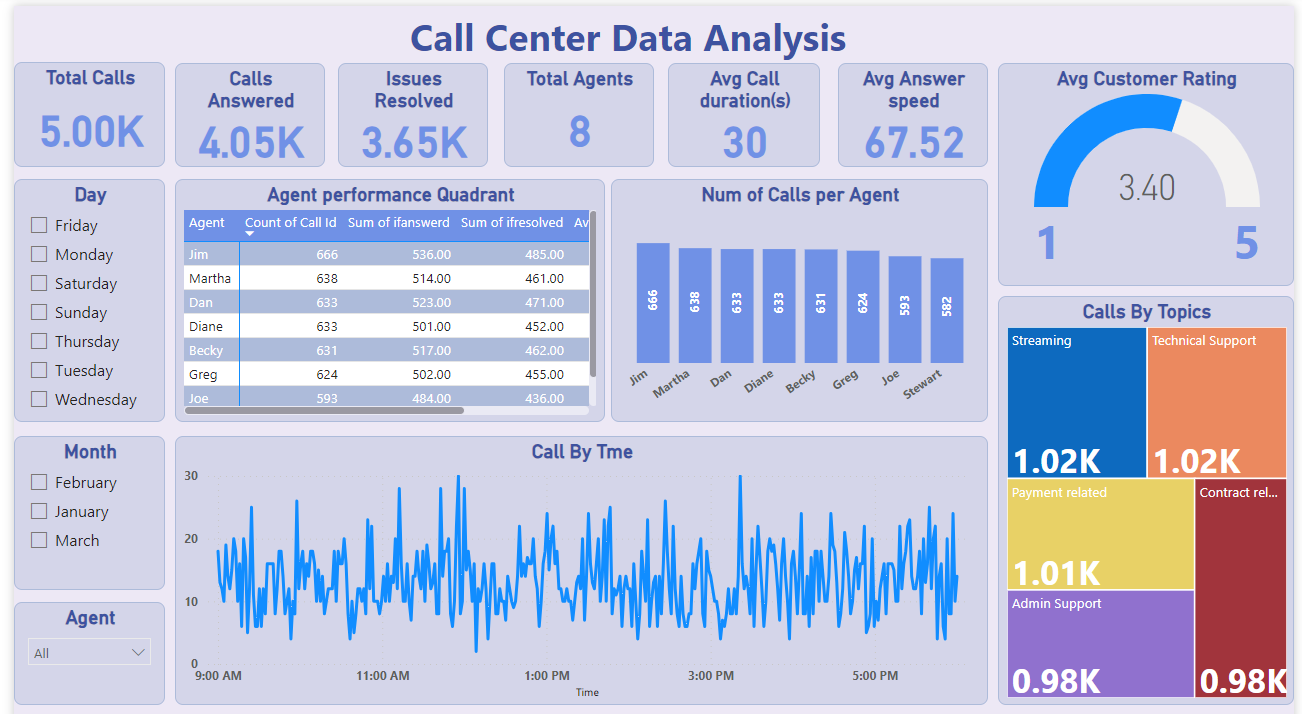

The page's visual inventory and layout, read from the dashboard file:
{"tool":"powerbi","page":{"name":"Page 1","canvas":[1280,720],"ordinal":0},"visuals":[{"type":"card","title":"Total Calls","fields":{"Values":["CountNonNull(Sheet1.Call Id)"]},"box":[0,55.7,151.4,105.7],"z":0},{"type":"card","title":"Avg Call duration(s)","fields":{"Values":["Avg(Sheet1.AvgTalkDuration)"]},"box":[654.3,57.1,151.4,104.3],"z":1000},{"type":"card","title":"Total Agents","fields":{"Values":["Sheet1.numofagents"]},"box":[490,57.1,150,104.3],"z":2000},{"type":"card","title":"Issues Resolved","fields":{"Values":["Sum(Sheet1.ifresolved)"]},"box":[324.3,57.1,150,104.3],"z":3000},{"type":"card","title":"Calls Answered","fields":{"Values":["Sum(Sheet1.ifanswerd)"]},"box":[161.4,57.1,150,104.3],"z":4000},{"type":"card","title":"Avg Answer speed","fields":{"Values":["Avg(Sheet1.Speed of answer in seconds)"]},"box":[824.3,57.1,150,104.3],"z":5000},{"type":"lineChart","title":"Call By Tme","fields":{"Y":["CountNonNull(Sheet1.Call Id)"],"Category":["Sheet1.Time"]},"box":[161.4,430,812.9,268.6],"z":6000},{"type":"columnChart","title":"Num of Calls per Agent","fields":{"Y":["CountNonNull(Sheet1.Call Id)"],"Category":["Sheet1.Agent"]},"box":[597.1,172.9,377.1,242.9],"z":7000},{"type":"pivotTable","title":"Agent performance Quadrant","fields":{"Rows":["Sheet1.Agent"],"Values":["CountNonNull(Sheet1.Call Id)","Sum(Sheet1.ifanswerd)","Sum(Sheet1.ifresolved)","Avg(Sheet1.AvgTalkDuration)"]},"box":[161.4,172.9,430,242.9],"z":8000},{"type":"gauge","title":"Avg Customer Rating","fields":{"Y":["Avg(Sheet1.Satisfaction rating)"],"MinValue":["Sheet1.min"],"MaxValue":["Sheet1.max"]},"box":[984.3,57.1,295.7,222.9],"z":9000},{"type":"slicer","title":"Day","fields":{"Values":["Sheet1.Day Name"]},"box":[0,172.9,151.4,242.9],"z":10000},{"type":"slicer","title":"Month","fields":{"Values":["Sheet1.Month Name"]},"box":[0,430,151.4,154.3],"z":11000},{"type":"slicer","title":"Agent","fields":{"Values":["Sheet1.Agent"]},"box":[0,595.7,151.4,102.9],"z":12000},{"type":"treemap","title":"Calls By Topics","fields":{"Group":["Sheet1.Topic"],"Values":["CountNonNull(Sheet1.Call Id)"]},"box":[984.3,290,295.7,408.6],"z":13000},{"type":"textbox","box":[391.4,0,497.1,72.9],"z":14000}]}

Visuals, with their boxes in screenshot pixels (x1, y1, x2, y2), scaled from the page's 1280x720 canvas onto the 1302x714 screenshot:
"Total Calls" card: Rect(0, 55, 154, 160)
"Avg Call duration(s)" card: Rect(666, 57, 820, 160)
"Total Agents" card: Rect(498, 57, 651, 160)
"Issues Resolved" card: Rect(330, 57, 482, 160)
"Calls Answered" card: Rect(164, 57, 317, 160)
"Avg Answer speed" card: Rect(838, 57, 991, 160)
"Call By Tme" lineChart: Rect(164, 426, 991, 693)
"Num of Calls per Agent" columnChart: Rect(607, 171, 991, 412)
"Agent performance Quadrant" pivotTable: Rect(164, 171, 602, 412)
"Avg Customer Rating" gauge: Rect(1001, 57, 1301, 278)
"Day" slicer: Rect(0, 171, 154, 412)
"Month" slicer: Rect(0, 426, 154, 579)
"Agent" slicer: Rect(0, 591, 154, 693)
"Calls By Topics" treemap: Rect(1001, 288, 1301, 693)
textbox: Rect(398, 0, 904, 72)
